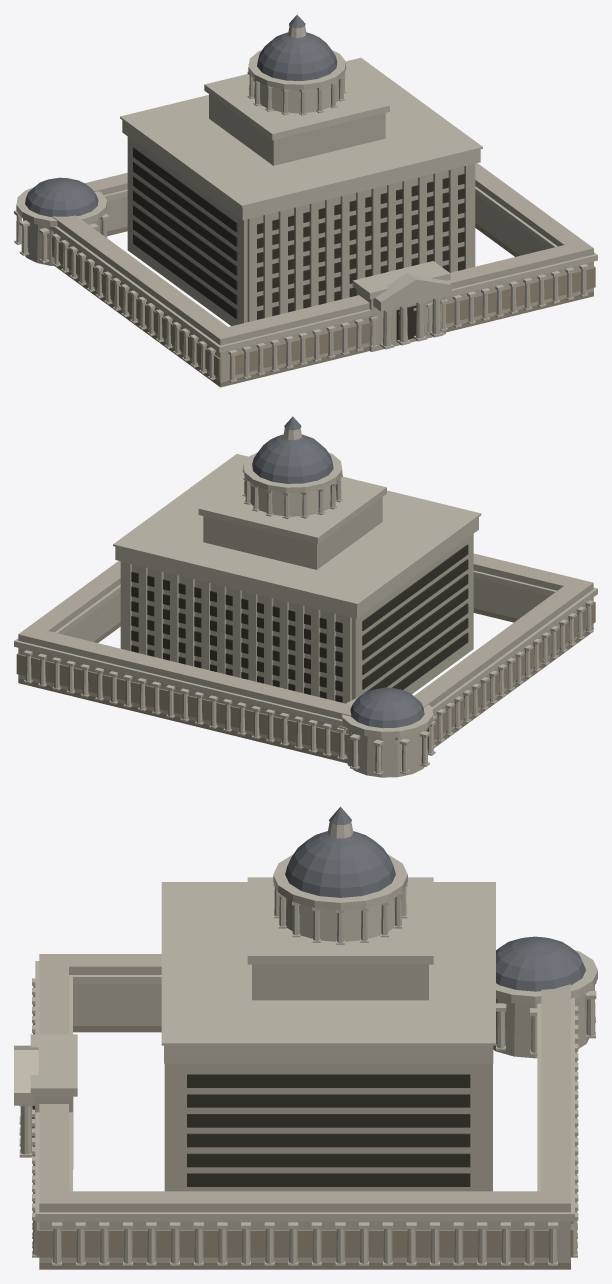
Rendered from bank_of_england.glb.
The picture shows the model from 3 angles, top to bottom: view 1: azimuth 30°, elevation 25°; view 2: azimuth 150°, elevation 25°; view 3: azimuth 270°, elevation 25°; orthographic projection. The views are drawn at different scales.
Parts seen in each view (by area): view 1: bank_of_england; view 2: bank_of_england; view 3: bank_of_england.
Boxes of the visible parts, left/top/right/bottom form: bank_of_england: left=14, top=14, right=597, bottom=387; bank_of_england: left=14, top=416, right=597, bottom=777; bank_of_england: left=14, top=806, right=597, bottom=1269.
Bounding box in the file's own units: 106 × 63.2 × 98.9.
